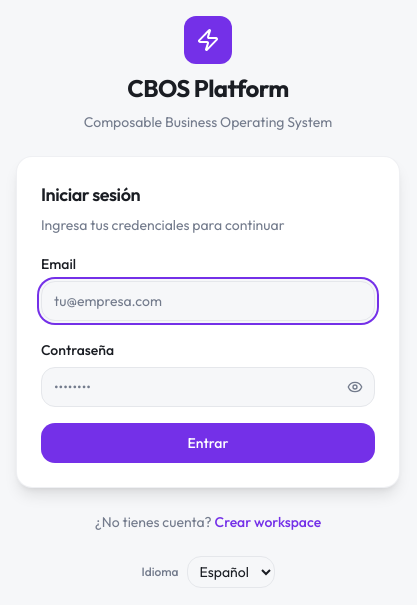
Login, in Spanish › toggles the password visibility label
Click the button named "Mostrar contraseña" at (355,387), box x1=335 y1=367 x2=375 y2=407
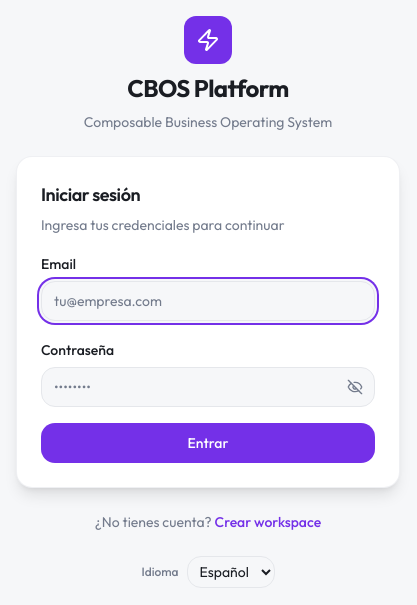
expect the button named "Ocultar contraseña" is shown: met, box x1=335 y1=367 x2=375 y2=407
